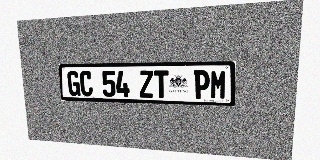4: (115, 71, 130, 97)
5: (102, 71, 116, 97)
C: (79, 71, 93, 96)
G: (67, 71, 81, 96)
M: (210, 70, 227, 100)
P: (194, 70, 210, 99)
T: (154, 70, 169, 98)
Z: (139, 70, 154, 98)
